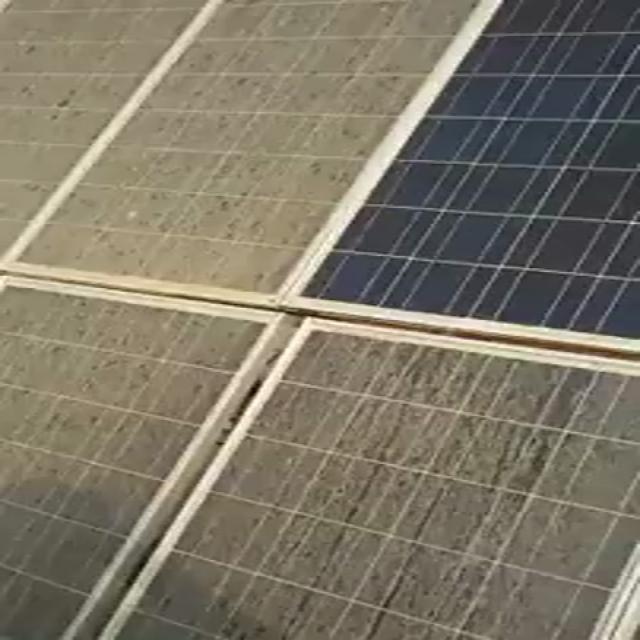Anomaly Solar Panel: (108, 323, 640, 639), (6, 1, 493, 302), (1, 275, 278, 640)
Normal Solar Panel: (294, 0, 637, 350)
Surface Contaminant: (108, 324, 640, 638), (9, 1, 491, 301), (2, 279, 277, 640)
